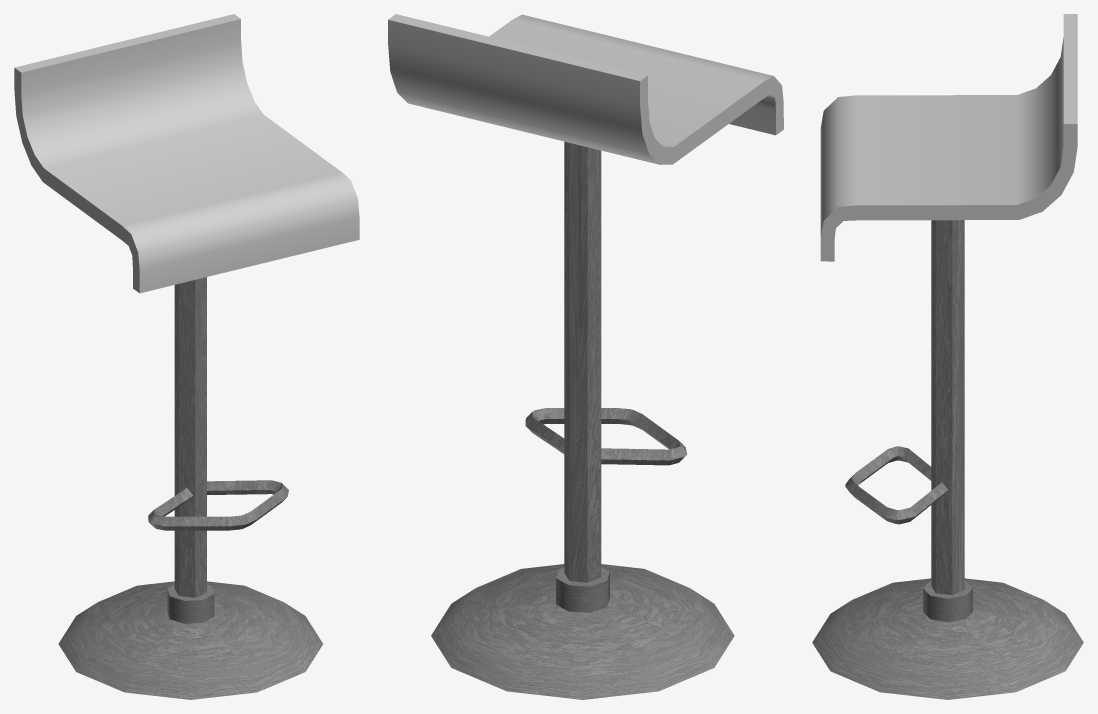
Rendered from SM_Prop_Stool.FBX.
3 renders of one model, left to right at view 1: azimuth 30°, elevation 25°; view 2: azimuth 150°, elevation 25°; view 3: azimuth 270°, elevation 25°, orthographic. The views are drawn at different scales.
Visible parts, largest first — view 1: SM_Prop_Stool; view 2: SM_Prop_Stool; view 3: SM_Prop_Stool.
Boxes of the visible parts, x1,y1,x2,y2 form: SM_Prop_Stool: (14,14,359,699); SM_Prop_Stool: (388,14,783,699); SM_Prop_Stool: (812,14,1083,699).
Size of the model in its own units: 0.4785 by 1.11 by 0.4785.
